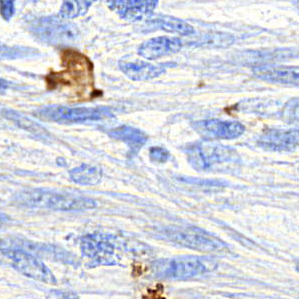Lymphocyte: (47, 50, 105, 100)
